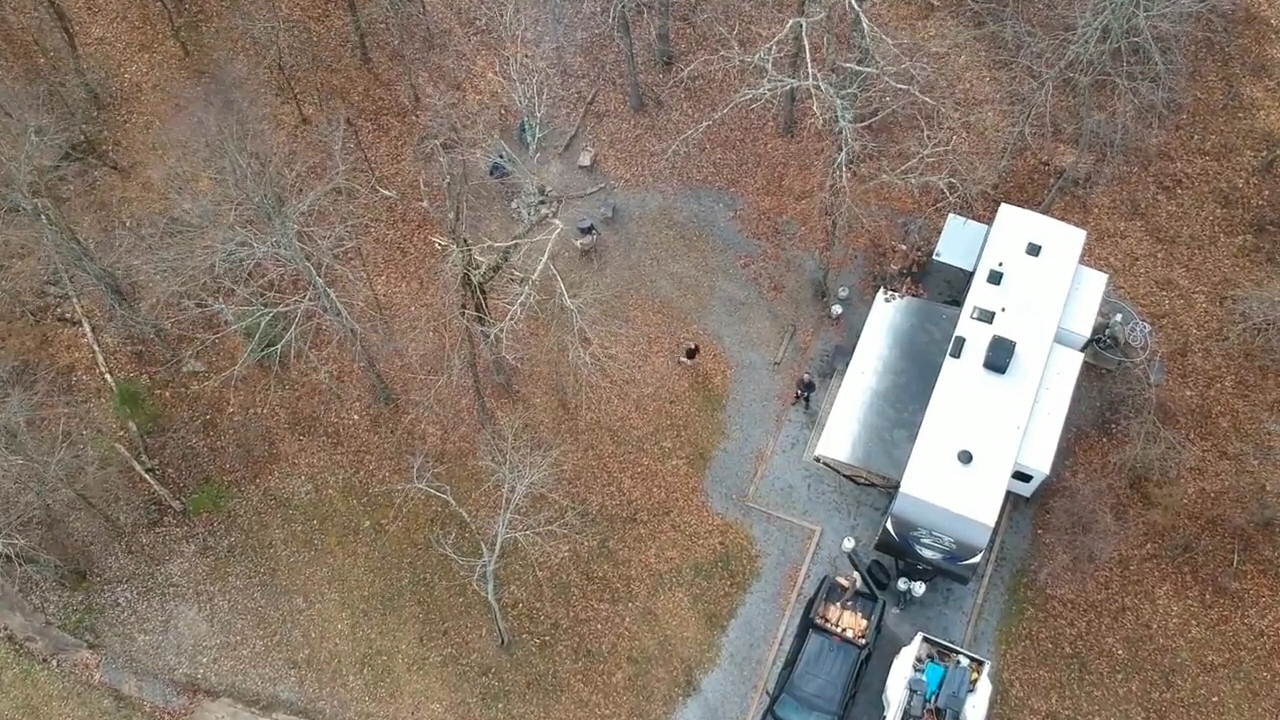insan: (788, 370, 817, 414), (676, 338, 706, 369)
kamyonet: (758, 584, 895, 720)
